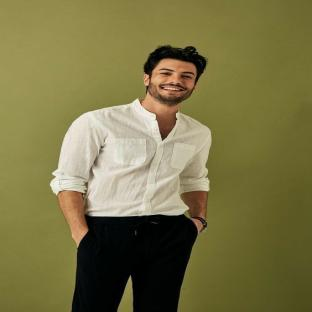Human: (51, 47, 211, 312)
